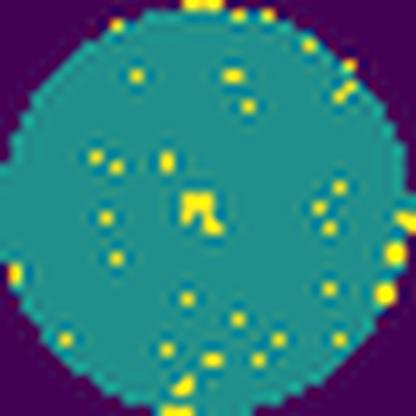Center: (181, 190, 227, 241)
